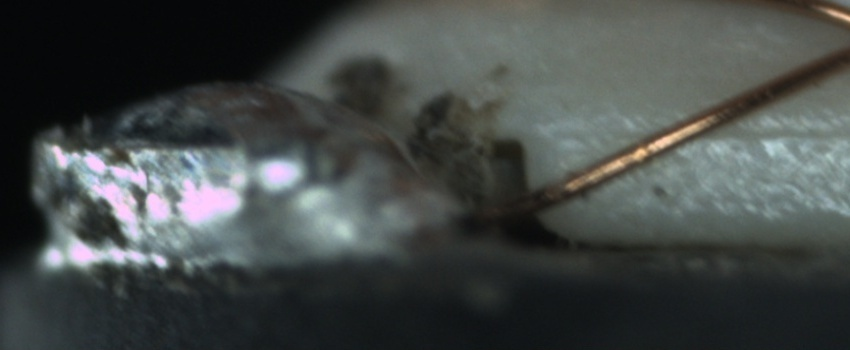CL: (832, 6, 850, 67)
DL: (611, 98, 850, 164)
